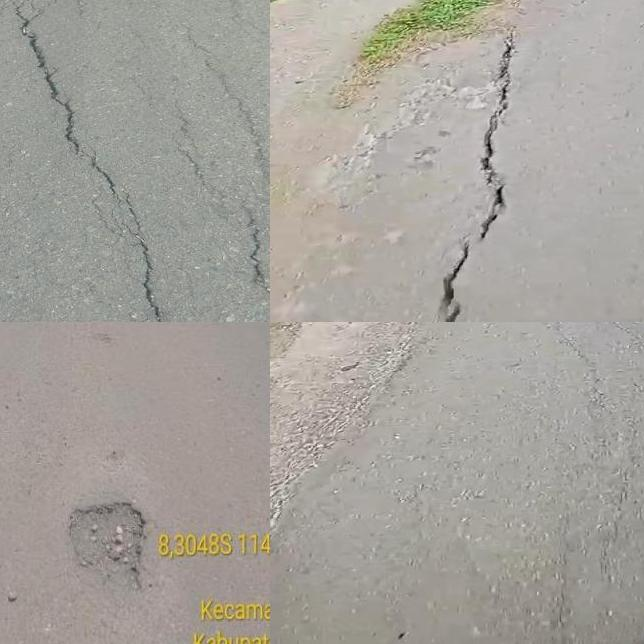Lubang: (64, 507, 146, 591)
Memanjang: (0, 13, 180, 322), (423, 0, 527, 322), (217, 202, 270, 315)
